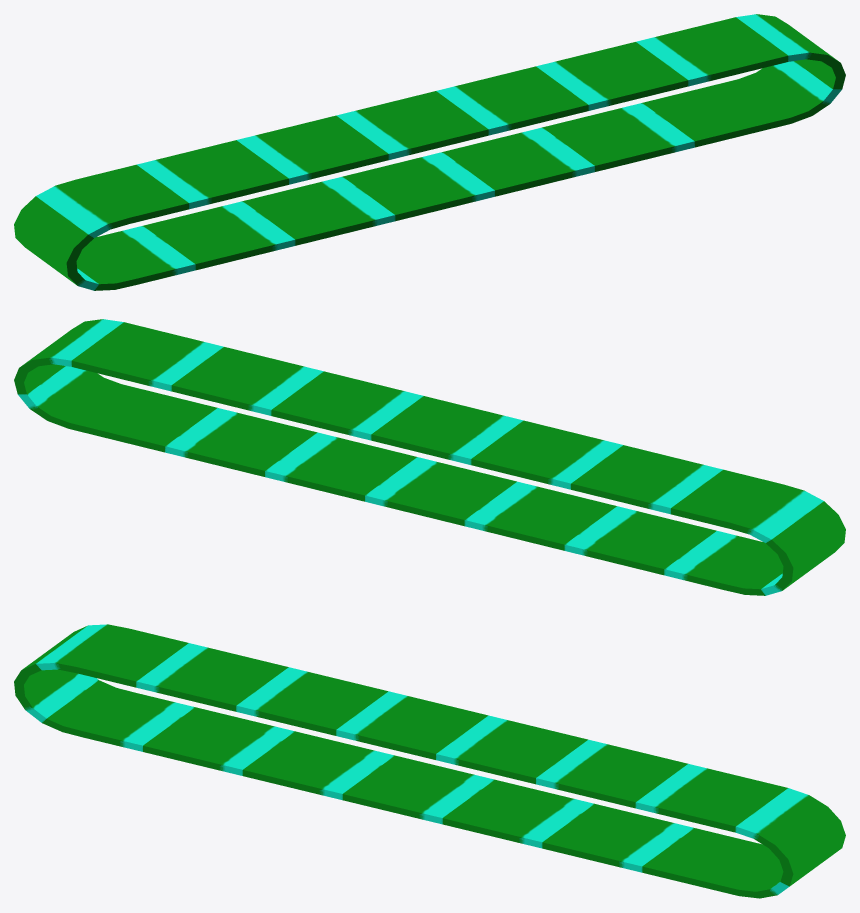
File: Robot_Belt.glb
The picture shows the model from 3 angles, top to bottom: view 1: azimuth 30°, elevation 25°; view 2: azimuth 150°, elevation 25°; view 3: azimuth 330°, elevation 25°; orthographic projection.
Visible parts, largest first — view 1: Cube.031; view 2: Cube.031; view 3: Cube.031.
Boxes of the visible parts, box(x1,y1,x2,y2) form: Cube.031: box(14, 14, 845, 290); Cube.031: box(14, 319, 845, 595); Cube.031: box(14, 624, 845, 898).
Bounding box in the file's own units: 0.6675 × 0.0575 × 0.078.
1 material, 1 textured.
